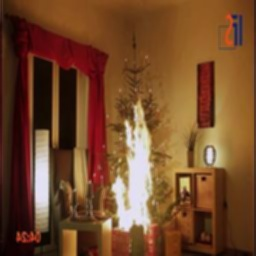fire: (96, 92, 168, 230)
